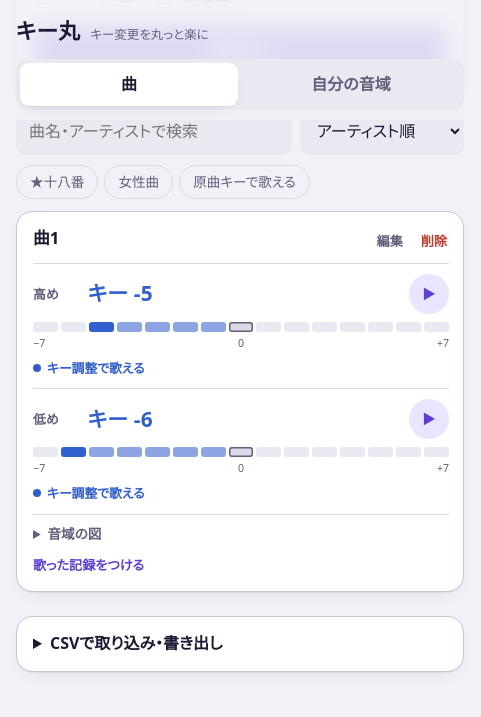
Test: 一覧と編集のそのほかの操作 › 楽に出せる音域を登録していると、曲の図に「楽に出せる …（限界 …）」と出る
(page scrolled)
Click the heading "音域の図" at (74,533), box [47,524,101,543]
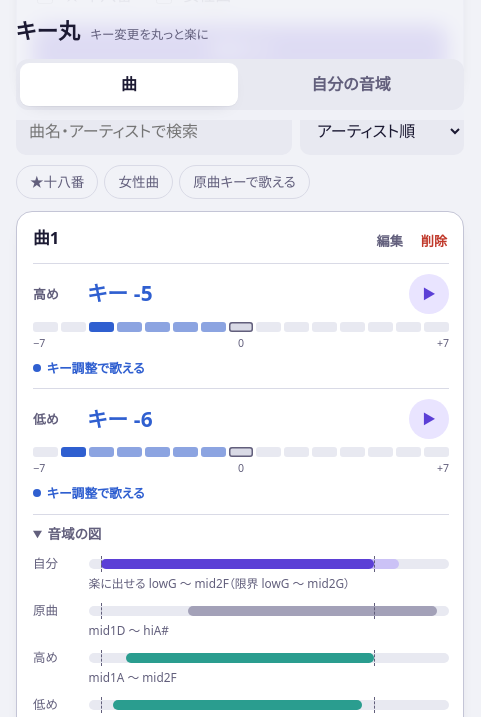
Expected: the text "楽に出せる lowG 〜 mid2F（限界 lowG 〜 mid2G）" is shown, [89,575,350,591]
